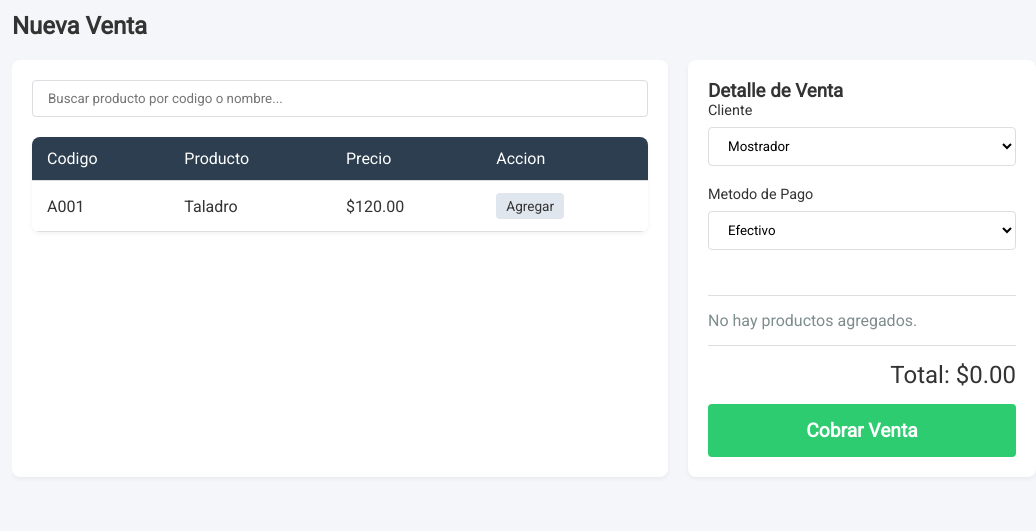
Test: SalesView › adds items and submits a sale
Click the button with class "btn-small" at {"x": 530, "y": 206}, box top-left (496, 193), bottom-right (564, 219)
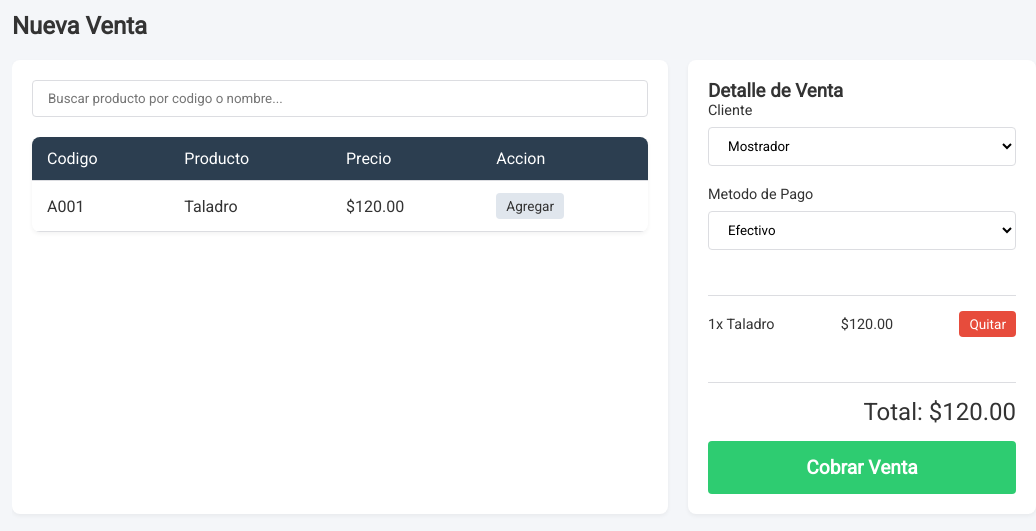
Click the button with class "btn-sell" at {"x": 862, "y": 468}, box top-left (708, 441), bottom-right (1016, 494)
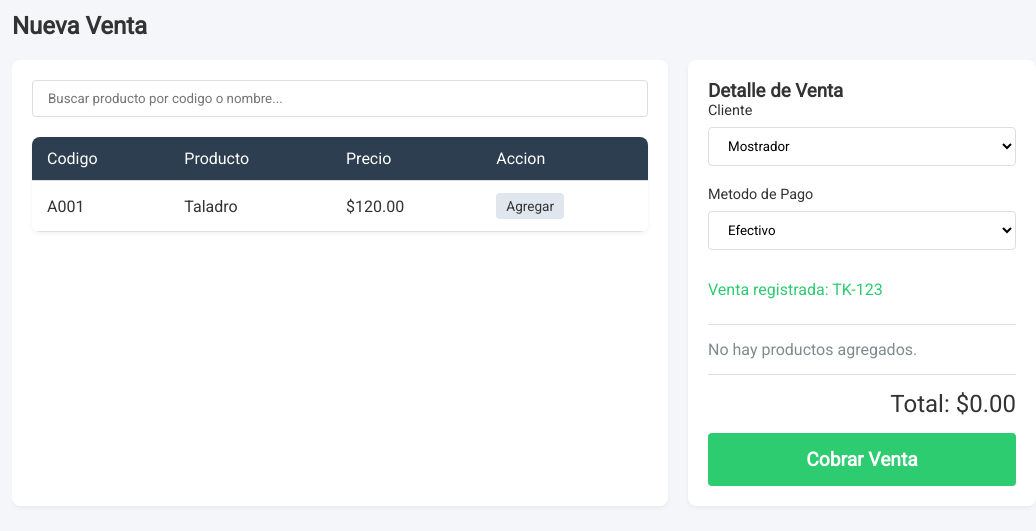
Check: the text "Venta registrada: TK-123" is shown, box top-left (708, 280), bottom-right (883, 299)
Check: the text "No hay productos agregados." is shown, box top-left (708, 340), bottom-right (917, 359)
